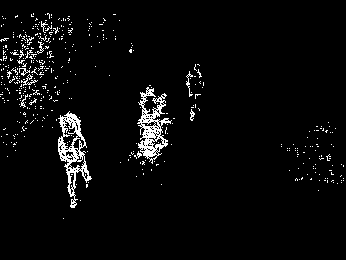person: (56, 111, 92, 209), (185, 62, 206, 122)
